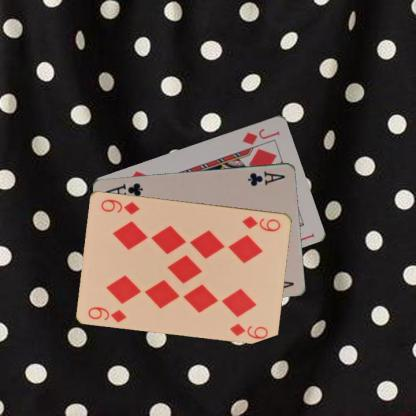9d: (240, 212, 282, 233), (86, 304, 127, 323)
Ac: (245, 168, 287, 187)
Jd: (240, 126, 281, 146)
